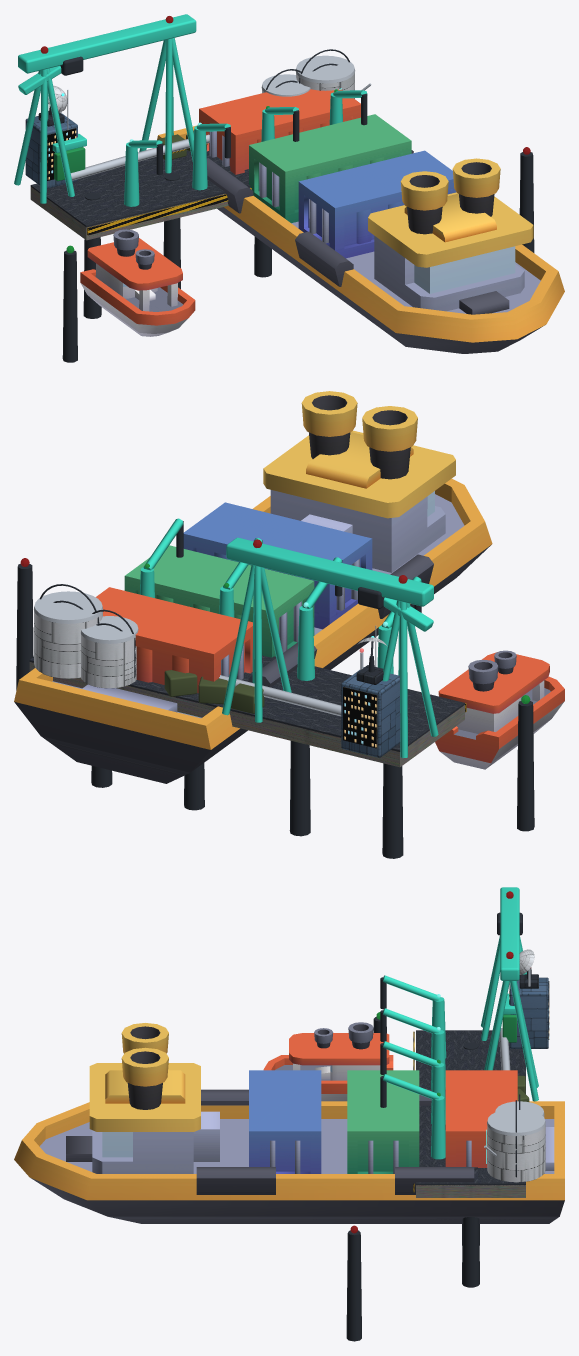
File: dock.glb
3 renders of one model, top to bottom at view 1: azimuth 30°, elevation 25°; view 2: azimuth 150°, elevation 25°; view 3: azimuth 270°, elevation 25°, orthographic. The views are drawn at different scales.
Visible parts, largest first — view 1: ship-cargo-a, cargo-b, cargo-a, boat-tug-a, object 6, cargo-c, object 38, object 5, object 65, anim:trolley, object 44, object 57 (+18 smaller); view 2: ship-cargo-a, boat-tug-a, cargo-c, cargo-a, cargo-b, object 6, object 38, object 5, object 43, object 57, object 50, object 65 (+18 smaller); view 3: ship-cargo-a, cargo-a, cargo-b, cargo-c, boat-tug-a, object 6, object 43, object 57, object 38, object 67, object 5, object 44 (+6 smaller).
Part boxes in pixels (<box>): ship-cargo-a: <box>157,125,564,353</box>; cargo-b: <box>249,114,411,223</box>; cargo-a: <box>298,150,456,258</box>; boat-tug-a: <box>80,229,195,336</box>; object 6: <box>30,150,250,227</box>; cargo-c: <box>199,89,360,174</box>; object 38: <box>18,14,196,73</box>; object 5: <box>30,187,250,240</box>; object 65: <box>62,250,77,362</box>; anim:trolley: <box>52,56,86,181</box>; object 44: <box>295,55,355,83</box>; object 57: <box>25,113,77,188</box>; ship-cargo-a: <box>14,391,492,783</box>; boat-tug-a: <box>435,650,564,769</box>; cargo-c: <box>96,587,252,693</box>; cargo-a: <box>183,502,372,629</box>; cargo-b: <box>124,545,314,657</box>; object 6: <box>29,655,464,751</box>; object 38: <box>226,537,433,606</box>; object 5: <box>29,662,464,767</box>; object 43: <box>34,611,102,678</box>; object 57: <box>341,667,400,757</box>; object 50: <box>81,634,136,688</box>; object 65: <box>517,701,534,831</box>; ship-cargo-a: <box>14,1023,564,1223</box>; cargo-a: <box>249,1070,321,1173</box>; cargo-b: <box>347,1070,419,1173</box>; cargo-c: <box>445,1070,517,1167</box>; boat-tug-a: <box>263,1022,393,1101</box>; object 6: <box>416,1030,525,1185</box>; object 43: <box>487,1125,545,1182</box>; object 57: <box>510,977,548,1048</box>; object 38: <box>500,887,519,980</box>; object 67: <box>346,1230,361,1341</box>; object 5: <box>416,1185,525,1197</box>; object 44: <box>487,1108,545,1135</box>.
Bounding box in the file's own units: 8.04 × 4.39 × 8.5.
18 materials, 8 textured.
